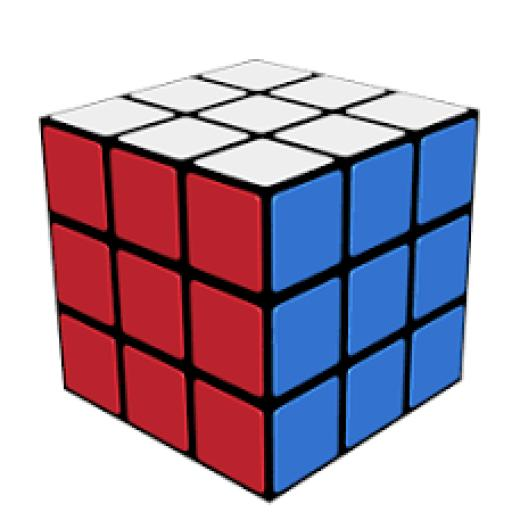cubic: (27, 42, 491, 512)
